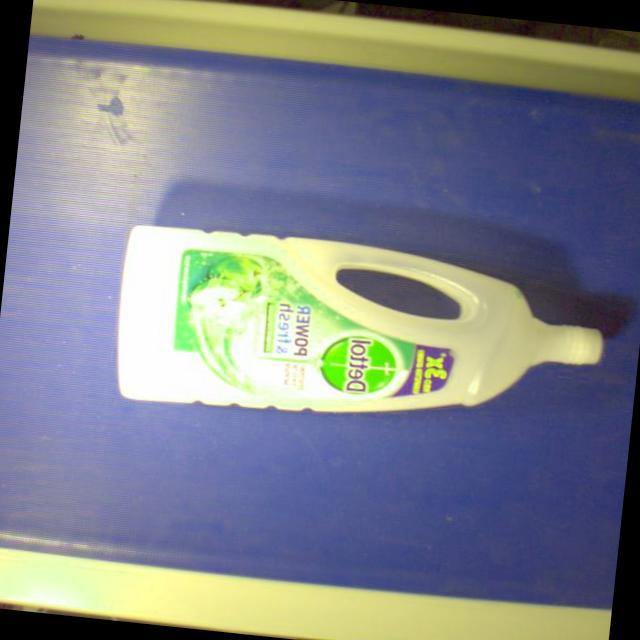HDPE Plastic: (112, 222, 609, 416)
